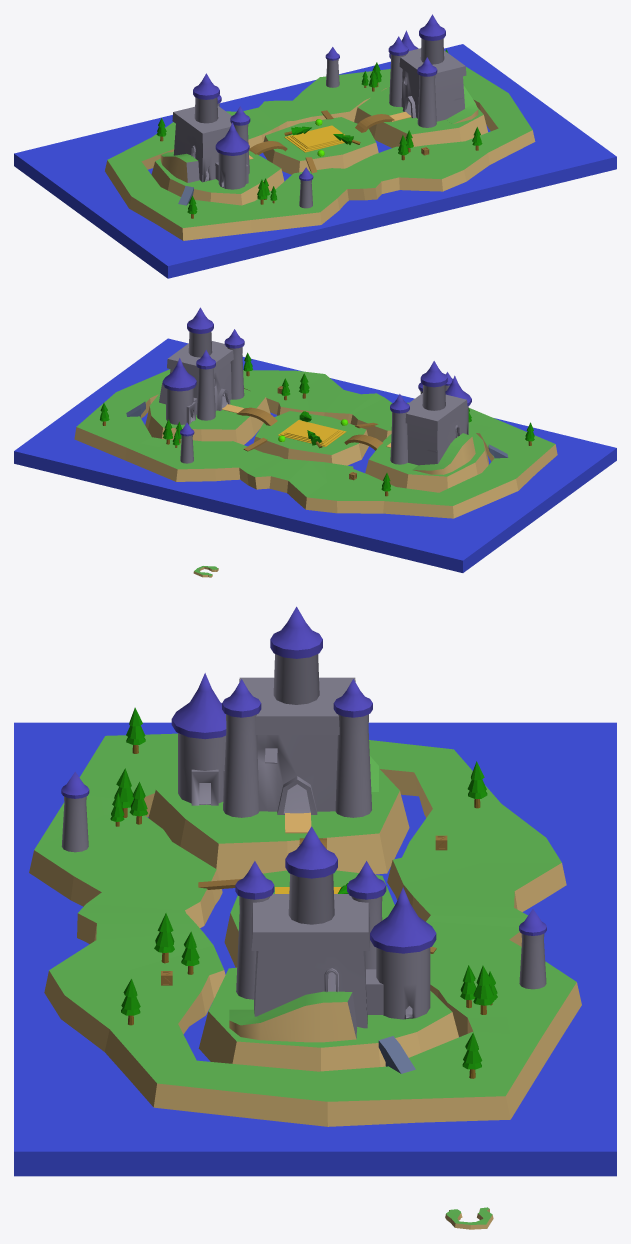
The model's file is KleptoKnightsColoredVersion.fbx.
The picture shows the model from 3 angles, top to bottom: view 1: azimuth 30°, elevation 25°; view 2: azimuth 150°, elevation 25°; view 3: azimuth 270°, elevation 25°; orthographic projection. The views are drawn at different scales.
Parts seen in each view (by area): view 1: Sea, LandEnclave.001, 1.Castle.001, 1.Castle, LandSquare, LandIsland, LandIsland.001, Square, Cylinder.007, Cylinder.008; view 2: Sea, LandEnclave.001, 1.Castle.001, 1.Castle, LandSquare, LandIsland, LandIsland.001, Square, Cylinder.007; view 3: Sea, LandEnclave.001, 1.Castle, 1.Castle.001, LandIsland.001, LandIsland, Cylinder.008, Cylinder.007, LandSquare, Cube.007.
Boxes of the visible parts, bbox=[...] form: Sea: bbox=[14, 44, 616, 278]; LandEnclave.001: bbox=[105, 67, 535, 240]; 1.Castle.001: bbox=[160, 73, 250, 189]; 1.Castle: bbox=[388, 14, 478, 127]; LandSquare: bbox=[263, 117, 378, 174]; LandIsland: bbox=[354, 86, 488, 147]; LandIsland.001: bbox=[151, 150, 284, 205]; Square: bbox=[284, 125, 344, 152]; Cylinder.007: bbox=[325, 47, 339, 87]; Cylinder.008: bbox=[299, 167, 313, 208]; Sea: bbox=[14, 338, 616, 572]; LandEnclave.001: bbox=[74, 369, 557, 518]; 1.Castle.001: bbox=[390, 361, 475, 474]; 1.Castle: bbox=[159, 307, 244, 424]; LandSquare: bbox=[254, 411, 368, 465]; LandIsland: bbox=[145, 389, 270, 444]; LandIsland.001: bbox=[365, 428, 488, 492]; Square: bbox=[278, 420, 346, 446]; Cylinder.007: bbox=[180, 422, 194, 463]; Sea: bbox=[14, 722, 616, 1176]; LandEnclave.001: bbox=[29, 733, 581, 1126]; 1.Castle: bbox=[229, 826, 436, 1042]; 1.Castle.001: bbox=[171, 606, 378, 817]; LandIsland.001: bbox=[148, 769, 409, 880]; LandIsland: bbox=[198, 967, 458, 1071]; Cylinder.008: bbox=[61, 771, 89, 852]; Cylinder.007: bbox=[519, 909, 546, 989]; LandSquare: bbox=[224, 870, 394, 967]; Cube.007: bbox=[378, 1036, 415, 1073].
Bounding box in the file's own units: 7466 × 3564 × 4435.
